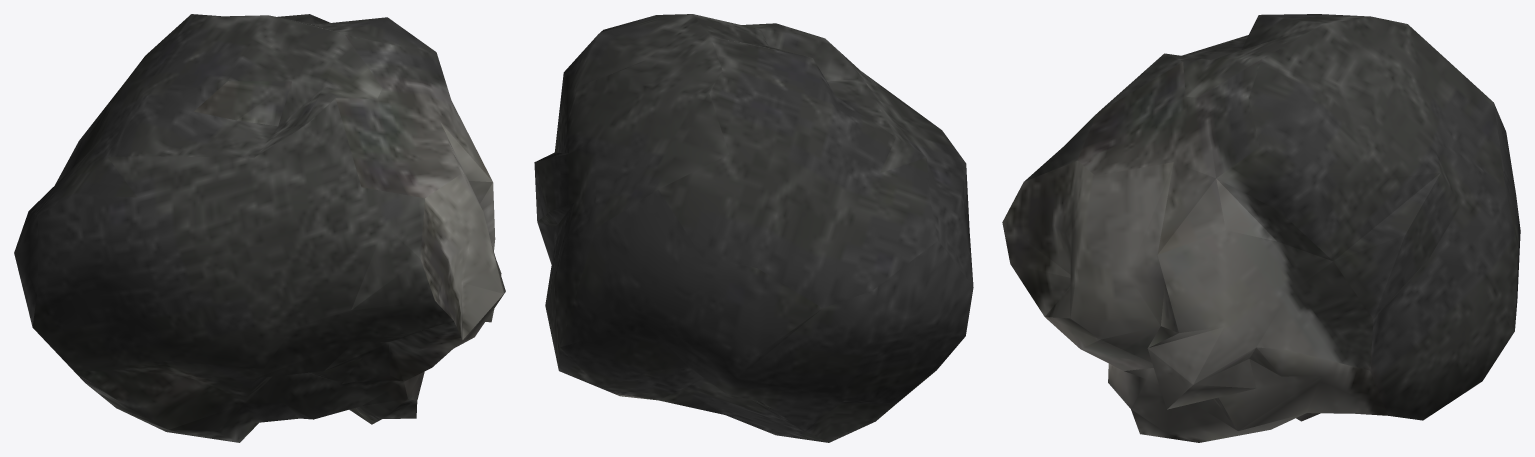
The model's file is ore-nickel-lod1.glb.
The picture shows the model from 3 angles, left to right: view 1: azimuth 30°, elevation 25°; view 2: azimuth 150°, elevation 25°; view 3: azimuth 270°, elevation 25°; orthographic projection. The views are drawn at different scales.
Visible parts, largest first — view 1: ore-nickel-lod1; view 2: ore-nickel-lod1; view 3: ore-nickel-lod1.
Part boxes in pixels (<box>): ore-nickel-lod1: <box>14,14,505,442</box>; ore-nickel-lod1: <box>534,14,973,442</box>; ore-nickel-lod1: <box>1002,14,1520,442</box>.
Size of the model in its own units: 1.97 by 1.77 by 1.99.
1 material, 1 textured.
